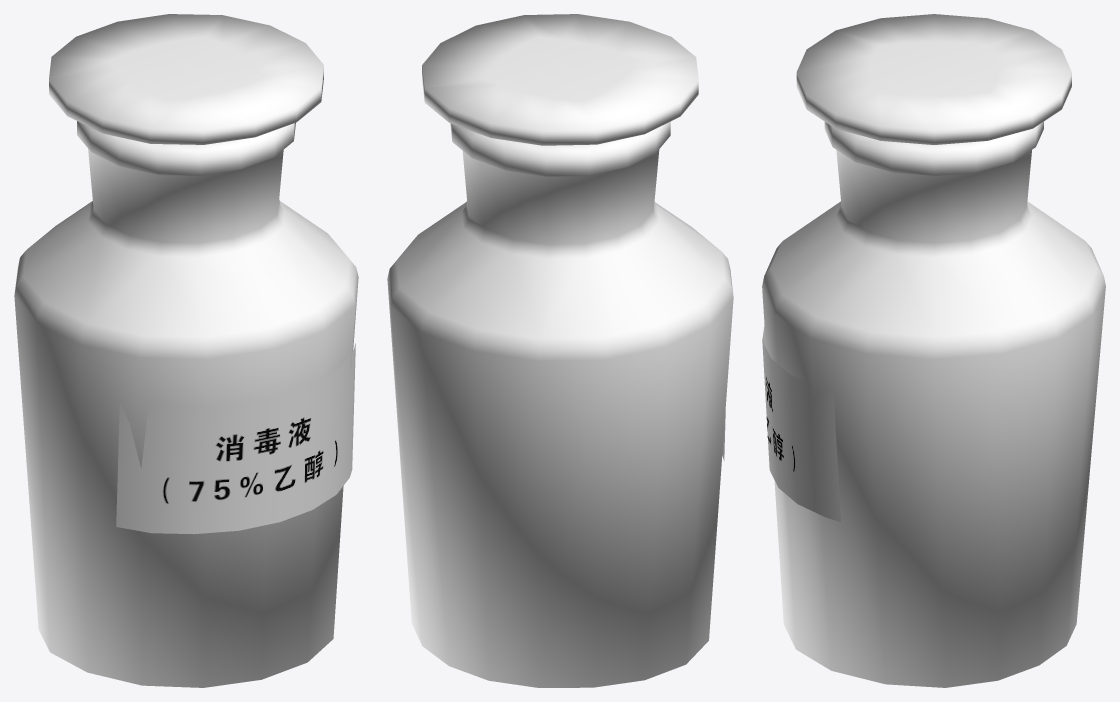
Rendered from 消毒液.glb.
3 views of the same model, side by side, from view 1: azimuth 30°, elevation 25°; view 2: azimuth 150°, elevation 25°; view 3: azimuth 270°, elevation 25° (orthographic).
Visible parts, largest first — view 1: 广口瓶透明, 消毒液（75%乙醇）, 广口瓶透明.001; view 2: 广口瓶透明, 广口瓶透明.001; view 3: 广口瓶透明, 广口瓶透明.001, 消毒液（75%乙醇）.
Part boxes in pixels (left/top/right/bottom): 广口瓶透明: left=14, top=121, right=358, bottom=687; 消毒液（75%乙醇）: left=116, top=343, right=355, bottom=534; 广口瓶透明.001: left=49, top=14, right=323, bottom=144; 广口瓶透明: left=387, top=121, right=733, bottom=687; 广口瓶透明.001: left=422, top=14, right=698, bottom=145; 广口瓶透明: left=762, top=121, right=1105, bottom=687; 广口瓶透明.001: left=796, top=14, right=1071, bottom=144; 消毒液（75%乙醇）: left=762, top=325, right=840, bottom=522.
Bounding box in the file's own units: 0.1368 × 0.2429 × 0.1363.
3 materials, 3 textured.
